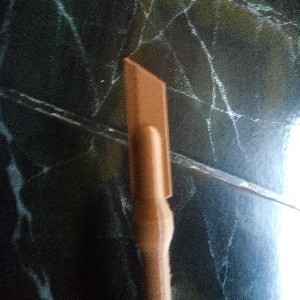cutter: (122, 55, 175, 300)
